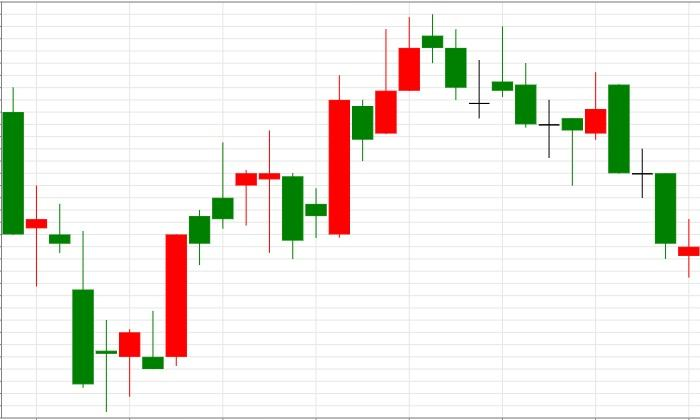evening_star_fall: (328, 13, 467, 238)
